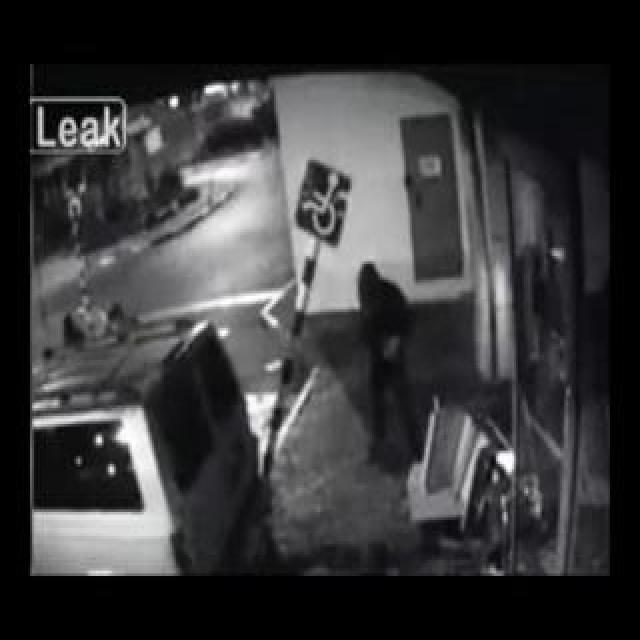thief: (350, 248, 412, 373)
